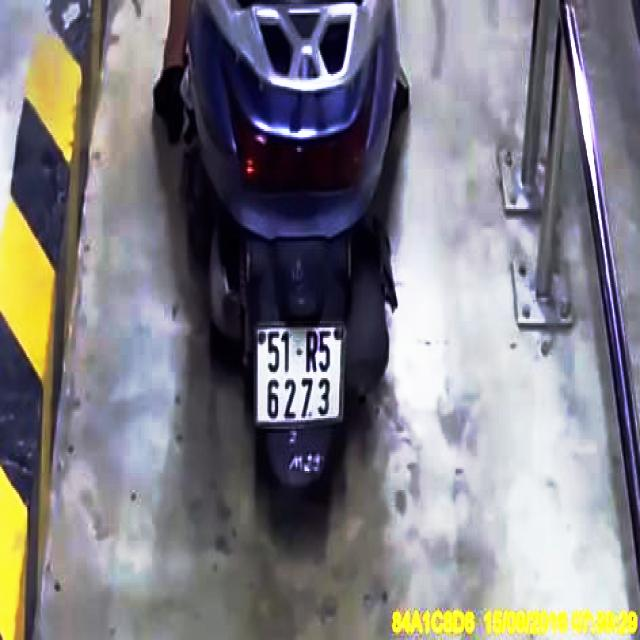license_plate: (256, 324, 346, 428)
